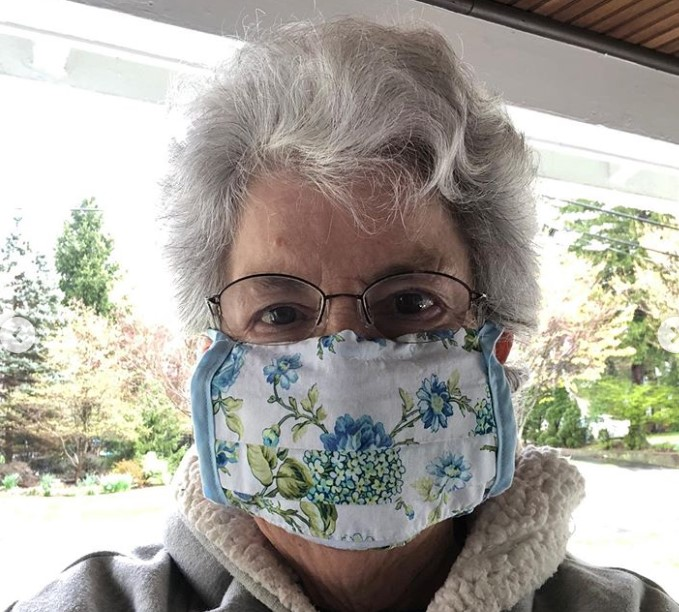face_with_mask: (188, 80, 522, 550)
